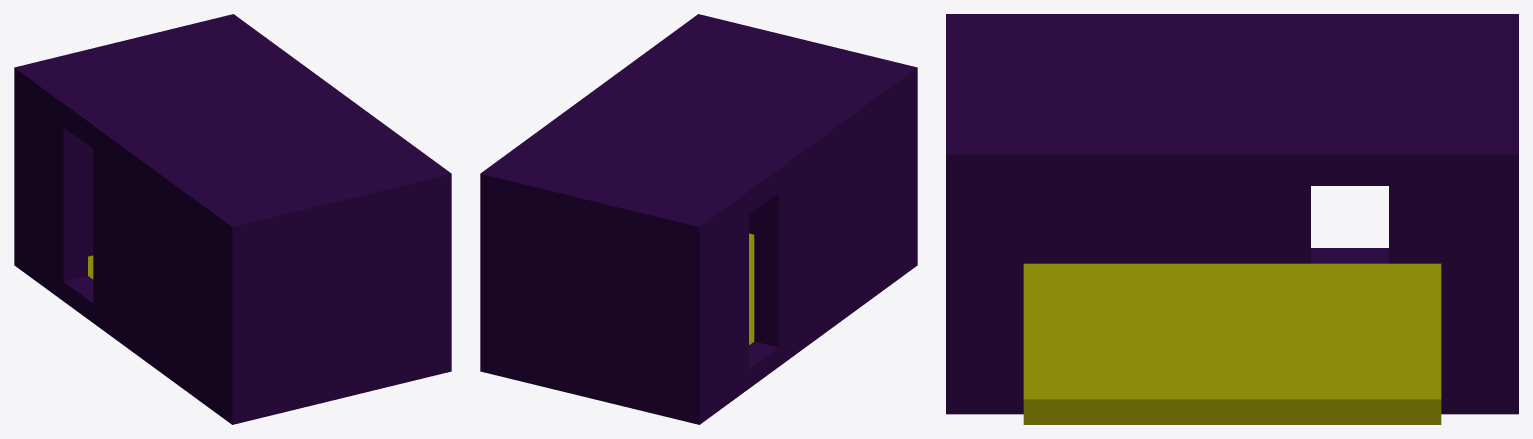
Rendered from proscenium_stage.FBX.
3 renders of one model, left to right at view 1: azimuth 30°, elevation 25°; view 2: azimuth 150°, elevation 25°; view 3: azimuth 270°, elevation 25°, orthographic. The views are drawn at different scales.
Parts seen in each view (by area): view 1: Box011; view 2: Box011; view 3: Box011.
Part boxes in pixels (x1,y1,x2,y2): Box011: (14, 14, 451, 424); Box011: (480, 14, 917, 424); Box011: (946, 14, 1518, 424).
Size of the model in its own units: 150 by 120 by 240.
